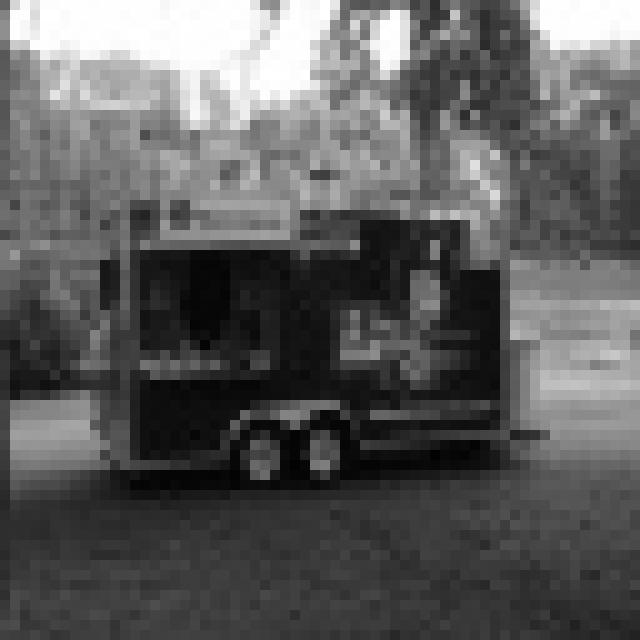trucks: (95, 188, 558, 494)
